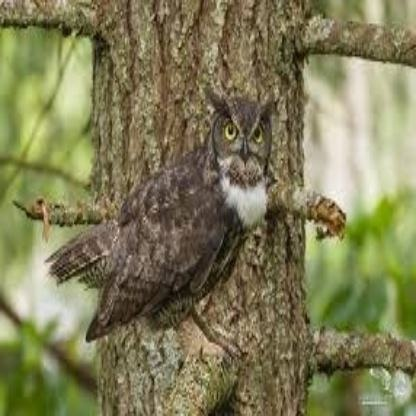Owl: (85, 99, 271, 310)
